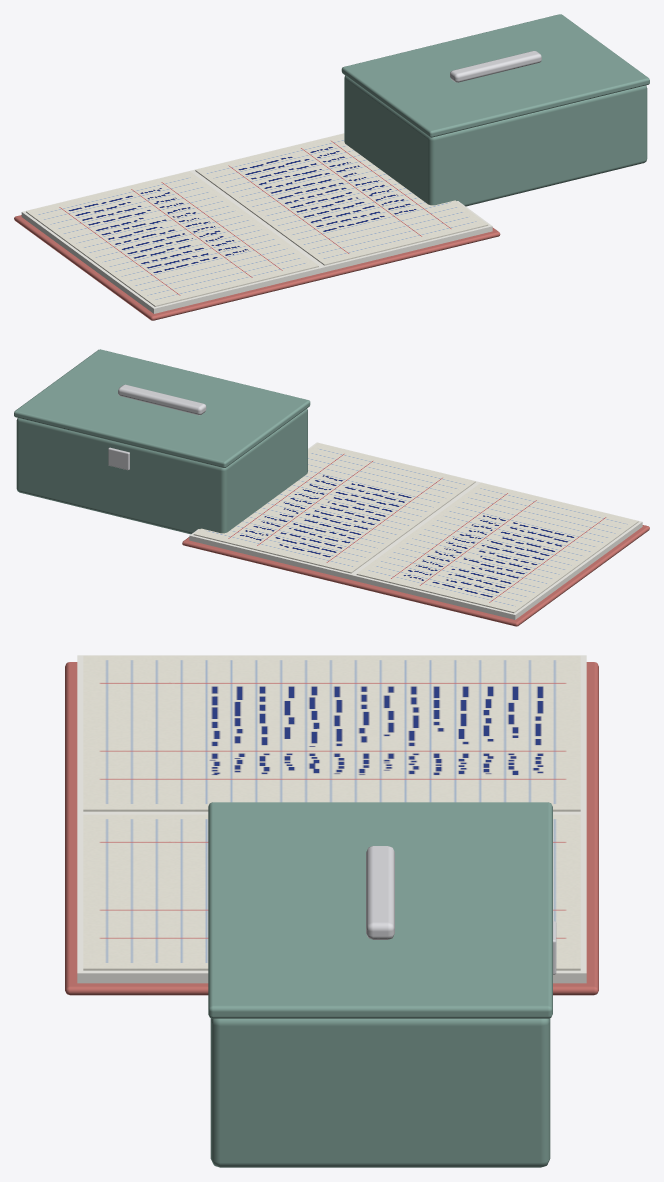
The model's file is escena.casa.negocio.fbx.
3 views of the same model, one above another, from view 1: azimuth 30°, elevation 25°; view 2: azimuth 150°, elevation 25°; view 3: azimuth 270°, elevation 25° (orthographic). The views are drawn at different scales.
Visible parts, largest first — view 1: Caja chica, Hoja de cuentas.001, Tapa, Hoja de cuentas, Hojas, Tapa del cuaderno, Manilla; view 2: Caja chica, Hoja de cuentas.001, Tapa, Hoja de cuentas, Hojas, Tapa del cuaderno, Manilla, Cerradura; view 3: Hoja de cuentas.001, Tapa, Caja chica, Hoja de cuentas, Tapa del cuaderno, Hojas, Manilla.
Boxes of the visible parts, left/top/right/bottom form: Caja chica: left=344, top=75, right=647, bottom=206; Hoja de cuentas.001: left=26, top=171, right=318, bottom=306; Tapa: left=341, top=14, right=649, bottom=137; Hoja de cuentas: left=195, top=133, right=488, bottom=265; Hojas: left=21, top=133, right=492, bottom=313; Tapa del cuaderno: left=14, top=215, right=500, bottom=320; Manilla: left=450, top=51, right=541, bottom=82; Caja chica: left=16, top=408, right=307, bottom=534; Hoja de cuentas.001: left=356, top=483, right=638, bottom=613; Tapa: left=14, top=349, right=310, bottom=467; Hoja de cuentas: left=193, top=443, right=475, bottom=573; Hojas: left=189, top=442, right=642, bottom=619; Tapa del cuaderno: left=182, top=525, right=649, bottom=626; Manilla: left=118, top=384, right=206, bottom=415; Cerradura: left=108, top=447, right=129, bottom=470; Hoja de cuentas.001: left=83, top=655, right=580, bottom=811; Tapa: left=208, top=802, right=552, bottom=1018; Caja chica: left=210, top=1018, right=550, bottom=1167; Hoja de cuentas: left=83, top=814, right=580, bottom=970; Tapa del cuaderno: left=65, top=662, right=598, bottom=995; Hojas: left=77, top=655, right=586, bottom=983; Manilla: left=366, top=846, right=394, bottom=939.
Bounding box in the file's own units: 0.491 × 0.084 × 0.22.
Materials: 6 (2 with a texture image).
